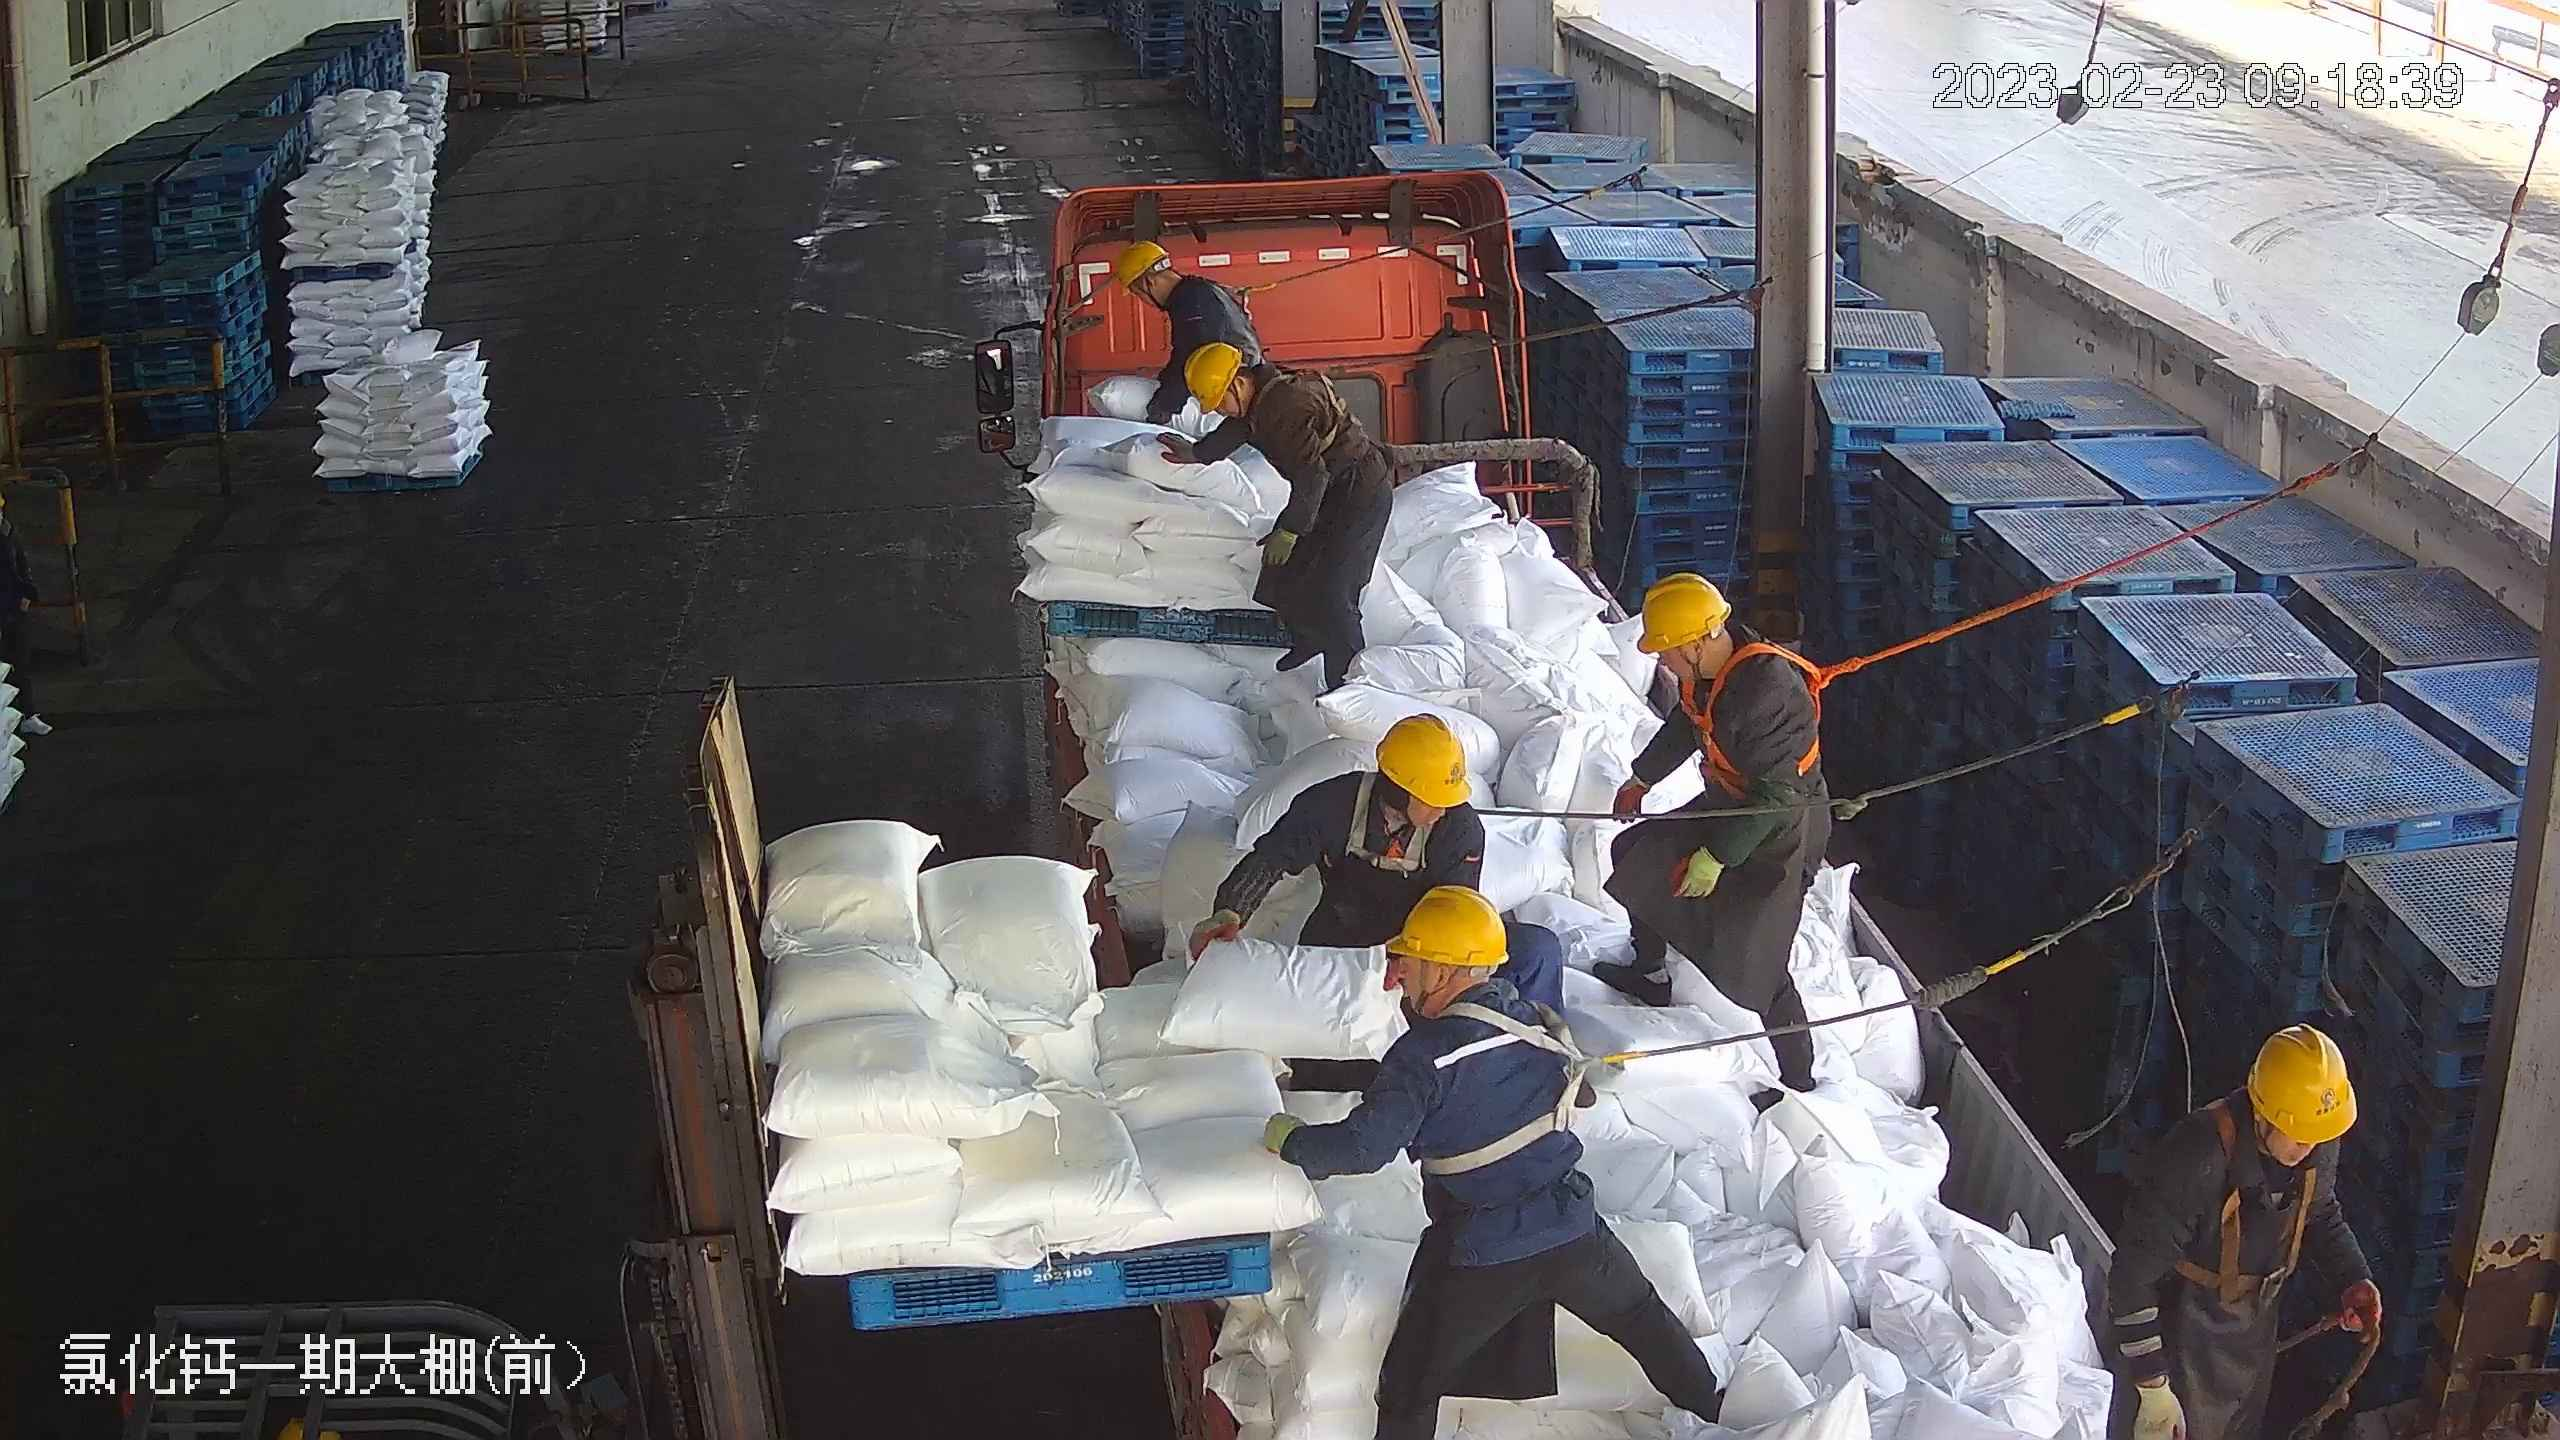belt: (1411, 994, 1651, 1173), (2185, 1104, 2337, 1303), (1675, 636, 1868, 793), (1337, 767, 1509, 873), (1253, 359, 1355, 457), (1196, 276, 1278, 325)
head: (1371, 882, 1572, 1107), (2152, 1023, 2364, 1208), (1632, 569, 1813, 741), (1307, 708, 1480, 860), (1187, 340, 1317, 444), (1111, 241, 1227, 327)
helmet: (2245, 1022, 2357, 1143), (1385, 883, 1512, 969), (1374, 711, 1469, 808), (1632, 571, 1732, 656), (1182, 340, 1242, 410), (1110, 239, 1167, 293)
people: (1260, 886, 1721, 1437), (1598, 566, 1829, 1111), (2113, 1018, 2386, 1438), (1185, 704, 1496, 985), (1170, 339, 1393, 698)
truck: (989, 138, 2172, 1440)
